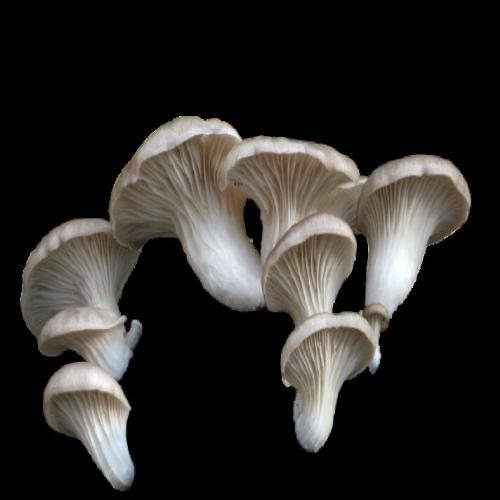Oyster Mushroom: (294, 128, 487, 341), (295, 128, 488, 338), (96, 109, 267, 330), (190, 94, 364, 266), (245, 290, 387, 456), (26, 347, 176, 497), (3, 206, 156, 340), (247, 198, 370, 336), (33, 291, 145, 383), (315, 170, 367, 235)
